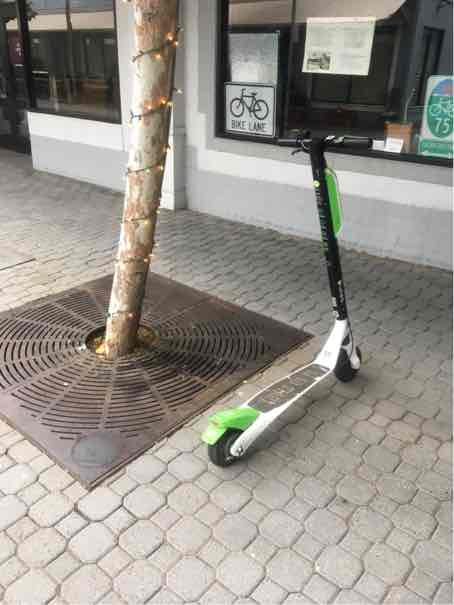scooter: (197, 123, 386, 472)
